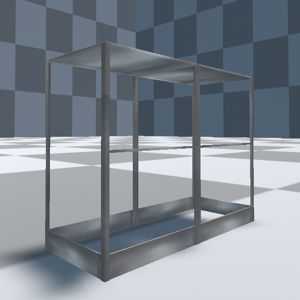Rack: (44, 36, 254, 283)
